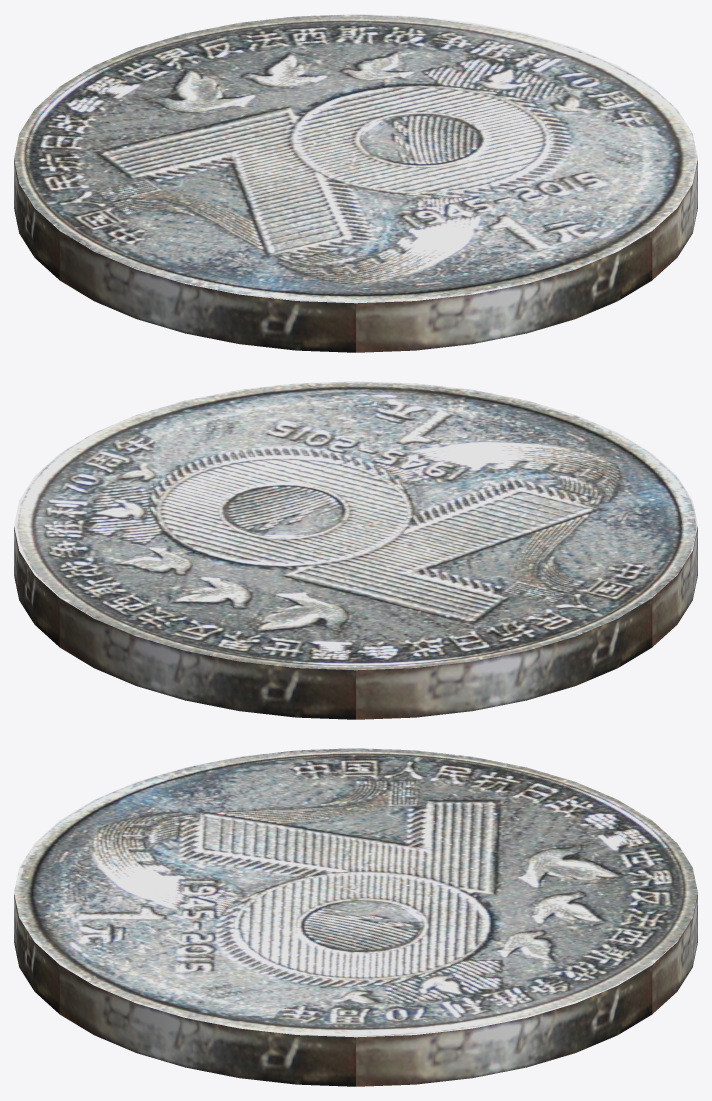
Rendered from memento coin.obj.
3 renders of one model, top to bottom at view 1: azimuth 30°, elevation 25°; view 2: azimuth 150°, elevation 25°; view 3: azimuth 270°, elevation 25°, orthographic.
Parts seen in each view (by area): view 1: Object009; view 2: Object009; view 3: Object009.
Part boxes in pixels (x1,y1,x2,y2): Object009: [14, 14, 697, 352]; Object009: [14, 381, 697, 719]; Object009: [14, 748, 697, 1086].
Bounding box in the file's own units: 25 × 2 × 25.
Materials: 1 (1 with a texture image).
